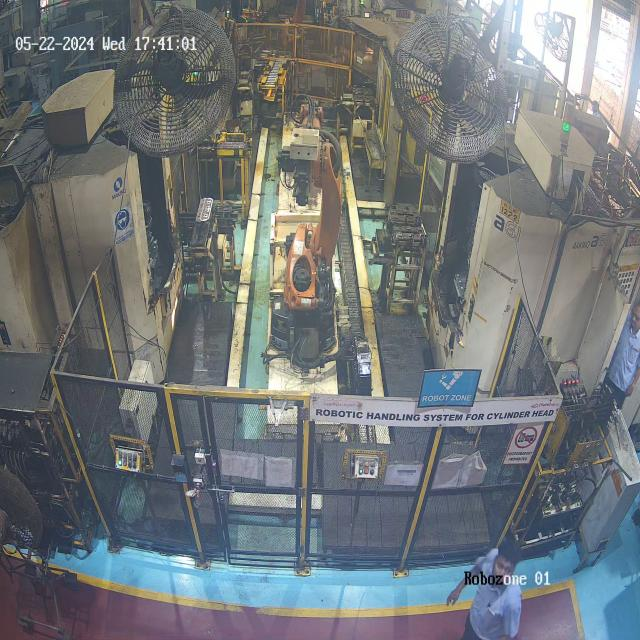person: (435, 530, 525, 640), (597, 292, 640, 418)
